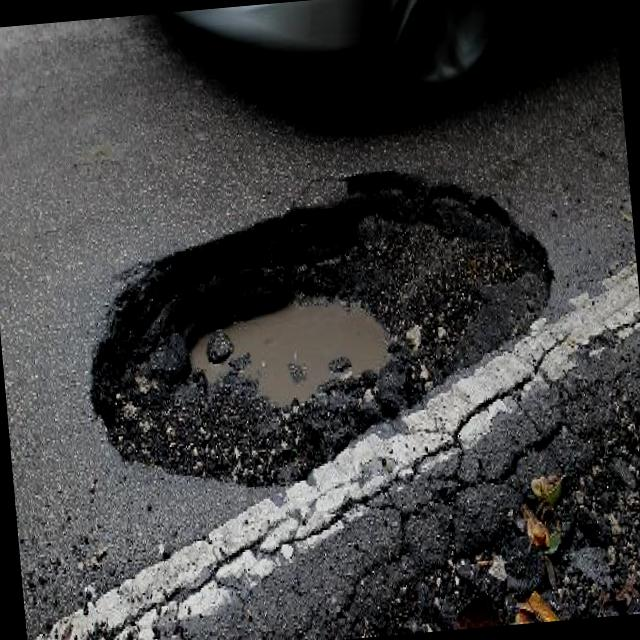Lubang: (91, 173, 550, 485)
